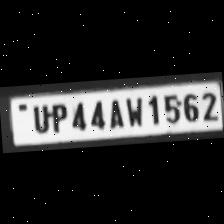1: (143, 92, 161, 125)
2: (197, 88, 219, 123)
4: (85, 96, 107, 130), (66, 98, 88, 131)
5: (158, 90, 182, 124)
6: (180, 89, 200, 122)
A: (104, 95, 124, 129)
P: (44, 100, 68, 132)
U: (28, 102, 50, 134)
W: (122, 93, 144, 128)
